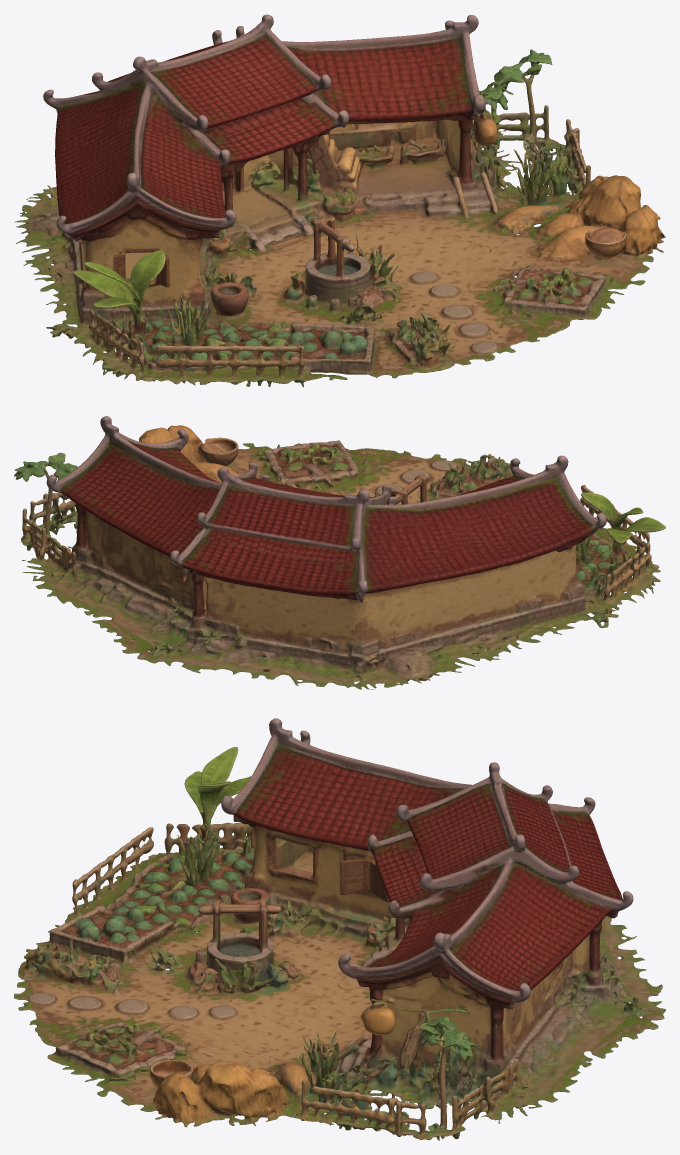
File: Meshy_AI_Courtyard_Harvest_Hom_1009042613_texture.glb
3 renders of one model, top to bottom at view 1: azimuth 30°, elevation 25°; view 2: azimuth 150°, elevation 25°; view 3: azimuth 270°, elevation 25°, orthographic. The views are drawn at different scales.
Size of the model in its own units: 1.9 by 0.5473 by 1.74.
1 material, 1 textured.
